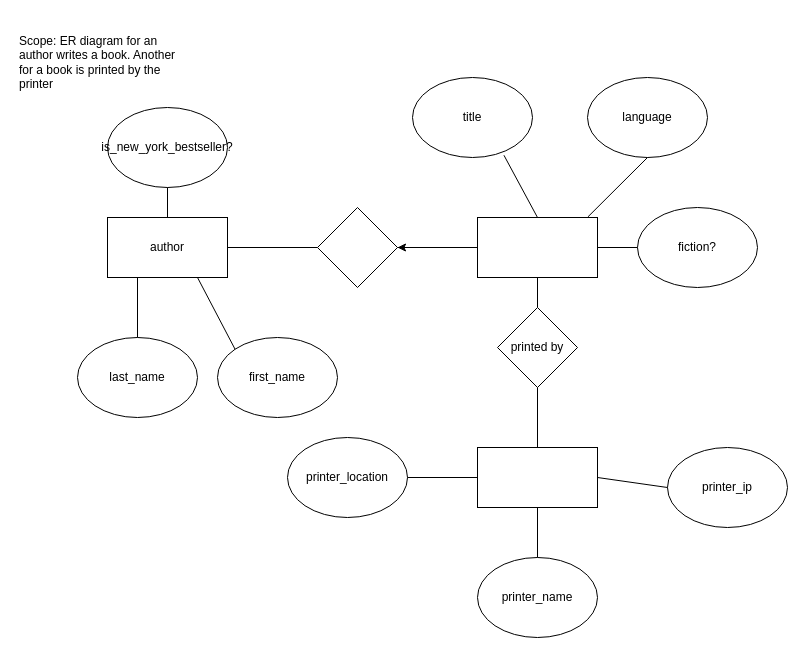
This 805x655 diagram has some shape labels left out. Each missing label, with the centre of its shape:
Book: (537,247)
printer: (537,477)
writes a: (357,247)
